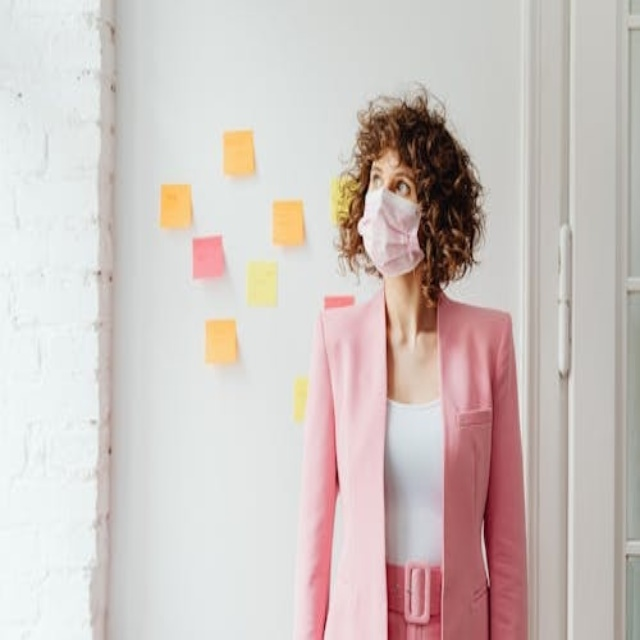Mascara: (358, 184, 425, 277)
Sin_gafas: (366, 160, 413, 202)
